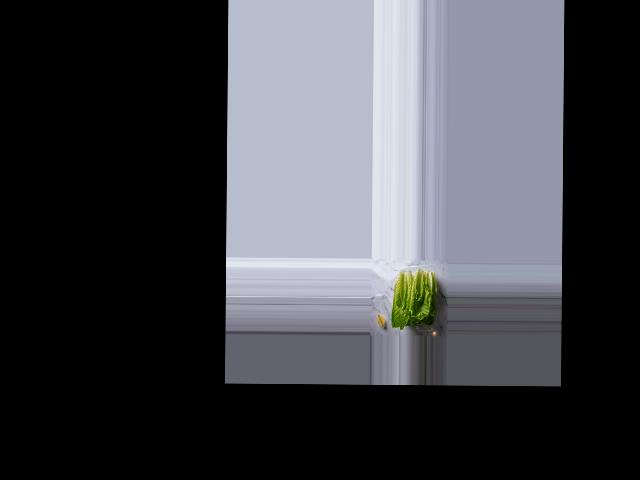lettuce: (388, 268, 439, 330)
